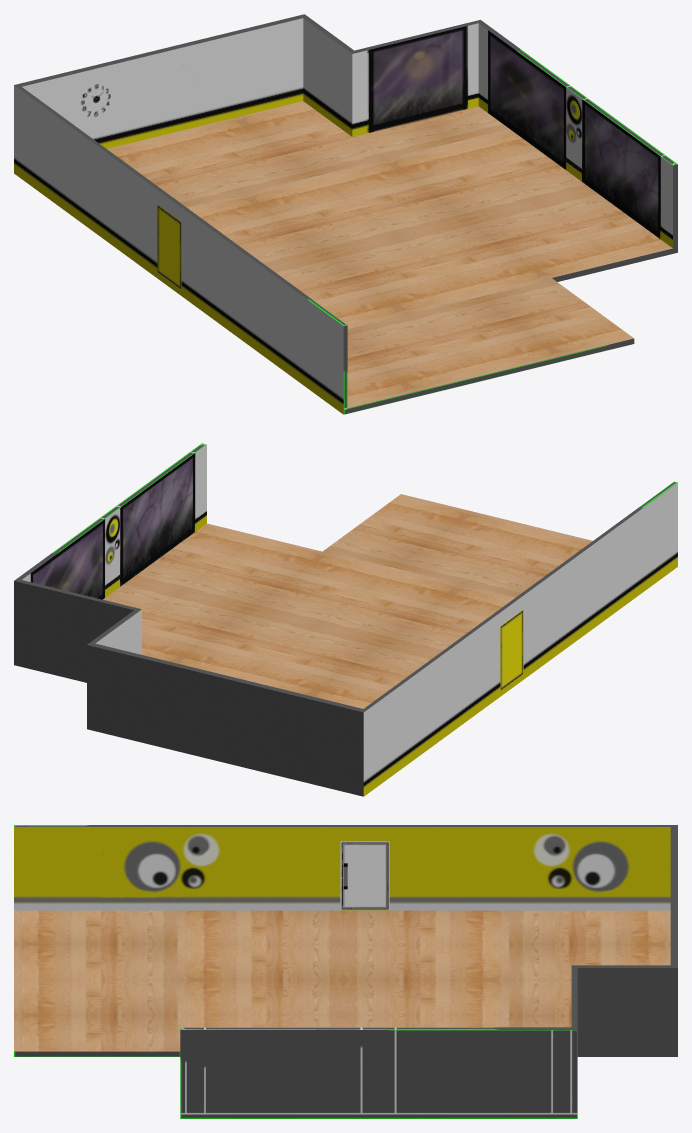
Rendered from main_room.FBX.
3 views of the same model, one above another, from view 1: azimuth 30°, elevation 25°; view 2: azimuth 150°, elevation 25°; view 3: azimuth 270°, elevation 25° (orthographic). The views are drawn at different scales.
Visible parts, largest first — view 1: Box001, Object001; view 2: Box001, Object001; view 3: Box001, Object001.
Boxes of the visible parts, x1=… form: Box001: x1=14, y1=14, x2=677, y2=414; Object001: x1=157, y1=204, x2=181, y2=290; Box001: x1=14, y1=443, x2=677, y2=796; Object001: x1=500, y1=609, x2=523, y2=690; Box001: x1=14, y1=825, x2=677, y2=1118; Object001: x1=340, y1=841, x2=389, y2=910.
Bounding box in the file's own units: 248 × 50.26 × 340.
